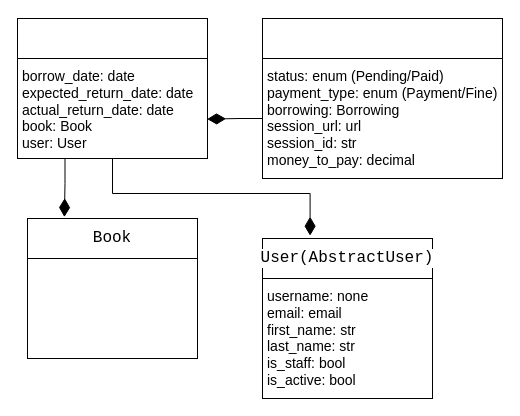
Some shapes in this 520 by 416 pixel diagram are drawn without their labels. The shapes that lost their labels are listed below. From the top down, each one's box as (x1, y1, x2, y2) in pixels, then its label:
(16, 18, 208, 58): Borrowing
(262, 18, 502, 58): Payment
(26, 258, 198, 358): title: str author: str cover: enum (Hard/Soft) inventory: int daily_fee: decimal
